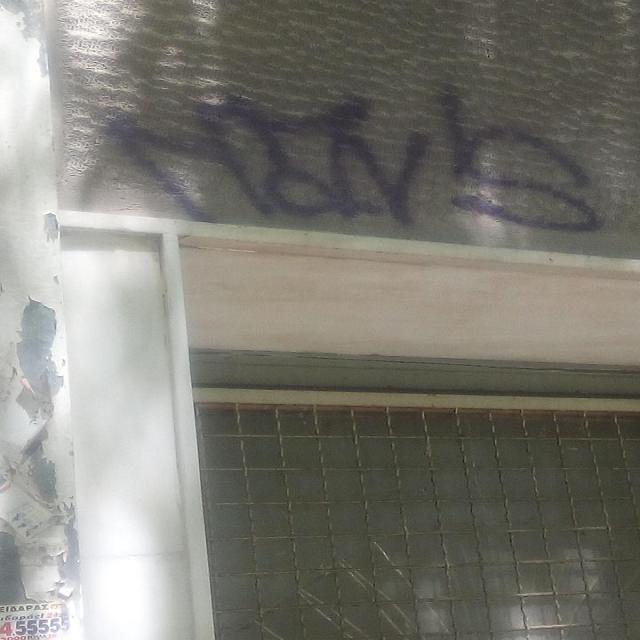nonspitting: (109, 84, 600, 232)
